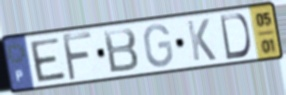B: (101, 26, 141, 76)
D: (218, 12, 253, 61)
E: (28, 35, 68, 84)
F: (60, 30, 94, 83)
G: (142, 23, 176, 69)
K: (185, 17, 219, 63)
